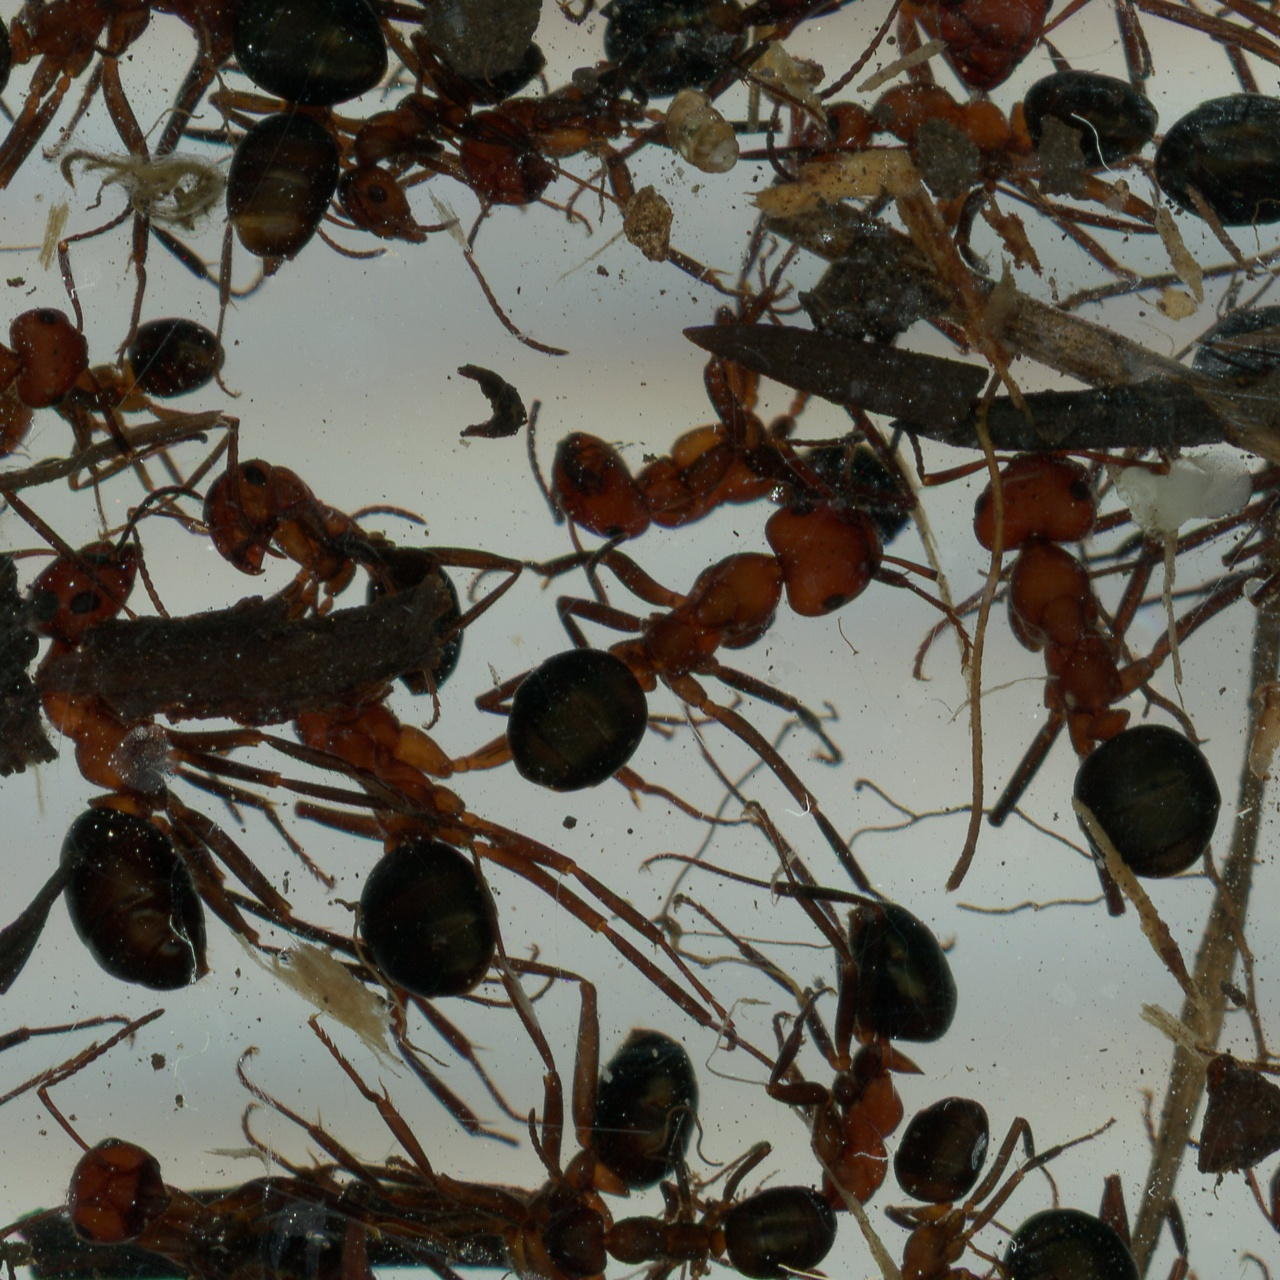arthropod: (886, 415, 1280, 1046), (204, 592, 572, 1116), (380, 0, 860, 387), (477, 483, 982, 836), (0, 906, 475, 1280), (647, 842, 966, 1280), (381, 930, 735, 1280), (509, 215, 831, 599), (0, 498, 223, 992), (761, 56, 1175, 285), (284, 0, 560, 302), (0, 0, 261, 318), (204, 417, 504, 692), (181, 0, 418, 300), (815, 1062, 1126, 1280), (1026, 0, 1280, 257), (934, 1105, 1276, 1280), (0, 308, 238, 517), (525, 1130, 842, 1280), (558, 0, 1078, 89), (1207, 478, 1280, 934), (0, 136, 91, 474), (1169, 290, 1280, 545), (0, 1191, 191, 1280), (645, 84, 753, 183)
